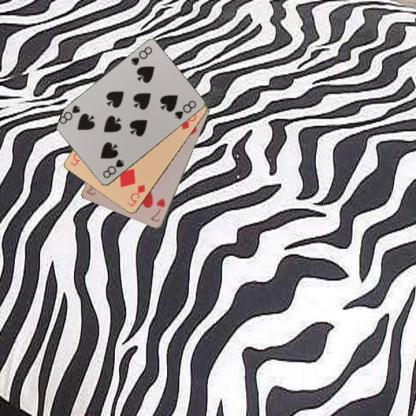5d: (124, 182, 146, 208)
7h: (148, 196, 166, 224)
8s: (100, 156, 126, 180), (128, 44, 153, 67)
